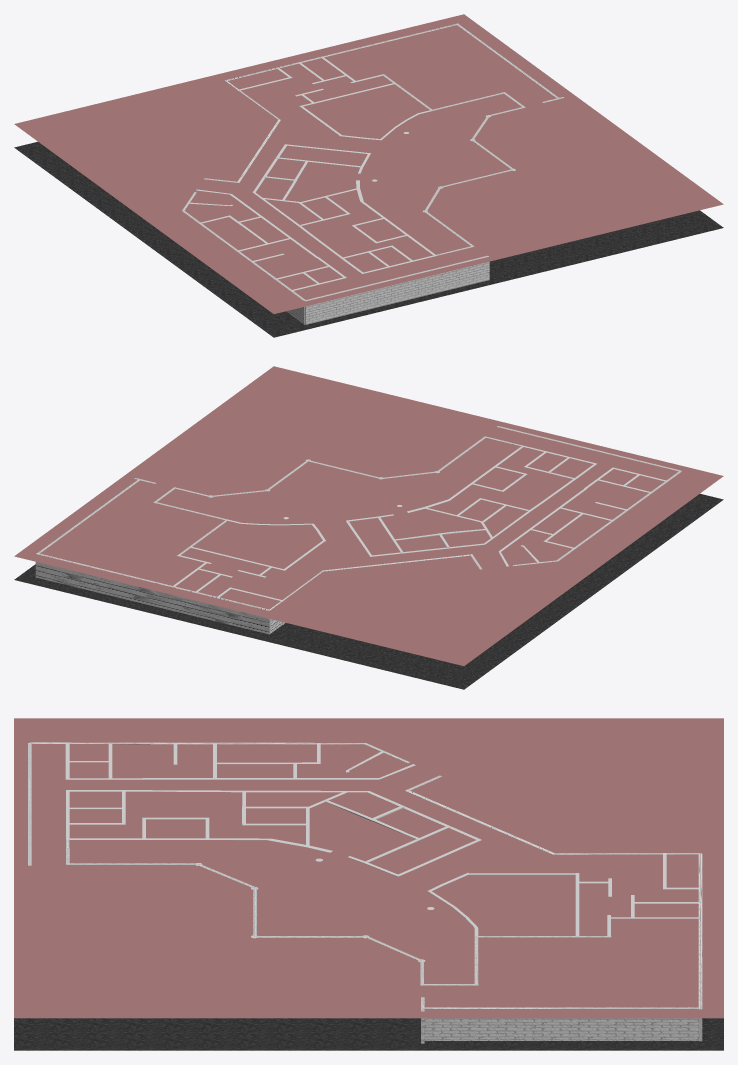
Rendered from training_area.fbx.
The picture shows the model from 3 angles, top to bottom: view 1: azimuth 30°, elevation 25°; view 2: azimuth 150°, elevation 25°; view 3: azimuth 270°, elevation 25°; orthographic projection. The views are drawn at different scales.
Parts seen in each view (by area): view 1: pPlane2, pPlane1, pCube2, pCube17; view 2: pPlane2, pPlane1, pCube34; view 3: pPlane2, pPlane1, pCube47, pCube17, pCube34, pCube33, pCube22, pCube3.
Boxes of the visible parts, <box> form: pPlane2: <box>14,14,723,313</box>; pPlane1: <box>14,141,723,337</box>; pCube2: <box>304,255,489,324</box>; pCube17: <box>182,192,305,324</box>; pPlane2: <box>14,366,723,665</box>; pPlane1: <box>14,493,723,689</box>; pCube34: <box>35,553,270,634</box>; pPlane2: <box>14,718,723,1018</box>; pPlane1: <box>14,1018,723,1050</box>; pCube47: <box>424,1007,699,1040</box>; pCube17: <box>29,742,409,763</box>; pCube34: <box>698,853,702,1041</box>; pCube33: <box>405,789,698,854</box>; pCube22: <box>237,790,481,840</box>; pCube3: <box>69,838,332,852</box>.
Bounding box in the file's own units: 20 × 1.12 × 20.
